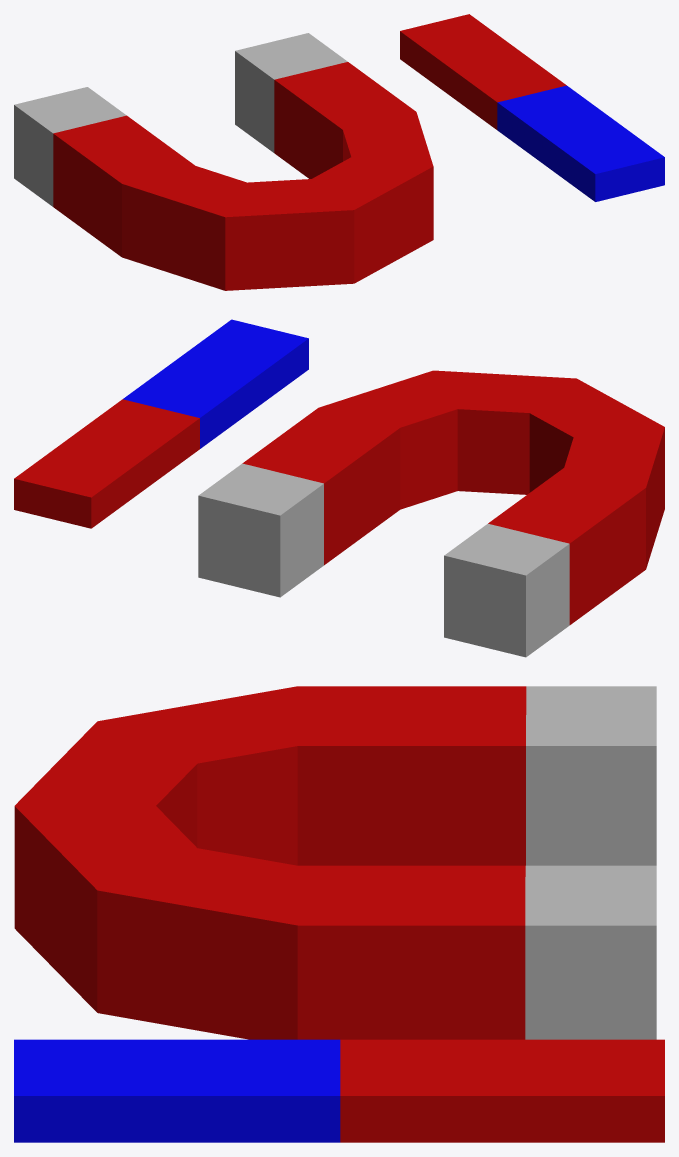
File: magnet.gltf
3 views of the same model, one above another, from view 1: azimuth 30°, elevation 25°; view 2: azimuth 150°, elevation 25°; view 3: azimuth 270°, elevation 25° (orthographic). The views are drawn at different scales.
Visible parts, largest first — view 1: node-0; view 2: node-0; view 3: node-0.
Part boxes in pixels (left/top/right/bottom): node-0: left=14, top=14, right=664, bottom=290; node-0: left=14, top=319, right=664, bottom=657; node-0: left=14, top=686, right=664, bottom=1142.
Size of the model in its own units: 3.11 by 0.4779 by 2.3.
